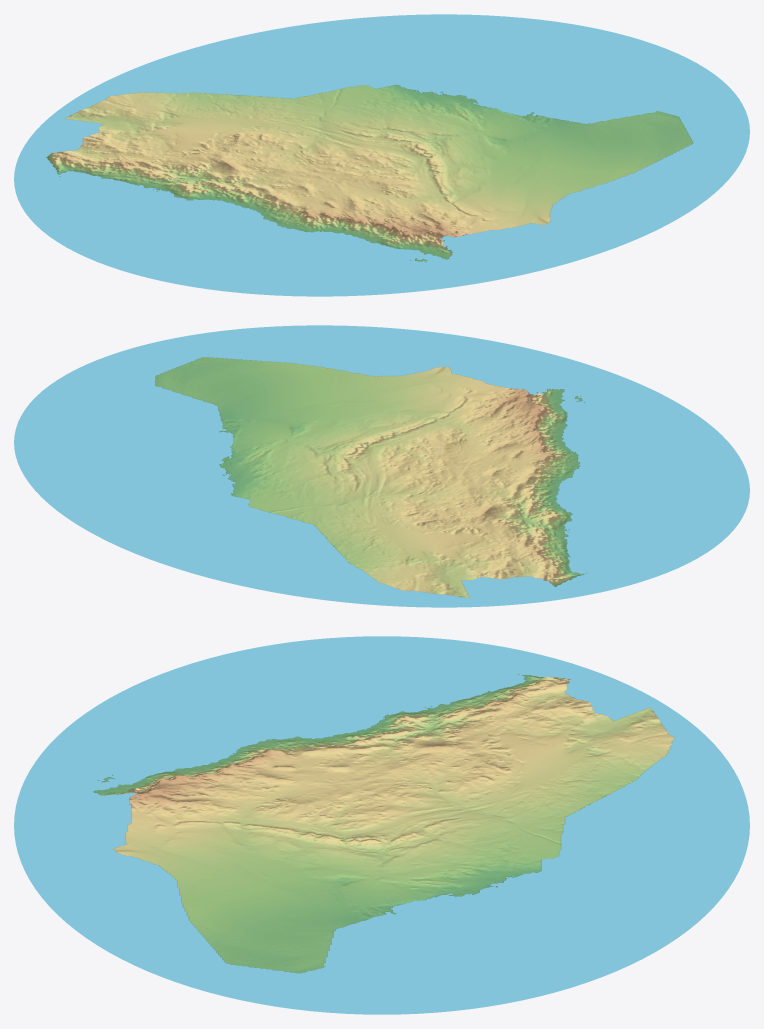
File: SAU-terrain.glb
The picture shows the model from 3 angles, top to bottom: view 1: azimuth 30°, elevation 25°; view 2: azimuth 150°, elevation 25°; view 3: azimuth 270°, elevation 25°; orthographic projection. The views are drawn at different scales.
Visible parts, largest first — view 1: Relevo com hidrografia; view 2: Relevo com hidrografia; view 3: Relevo com hidrografia.
Part boxes in pixels (x1,y1,x2,y2): Relevo com hidrografia: [14, 14, 749, 296]; Relevo com hidrografia: [14, 325, 749, 607]; Relevo com hidrografia: [14, 636, 749, 1014].
Bounding box in the file's own units: 2.03 × 0.023 × 1.67.
2 materials, 1 textured.
